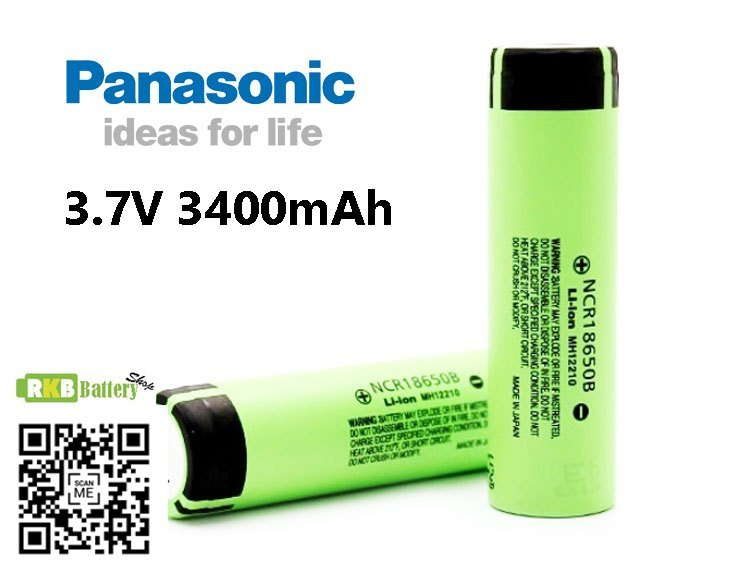Battery: (485, 43, 623, 523)
